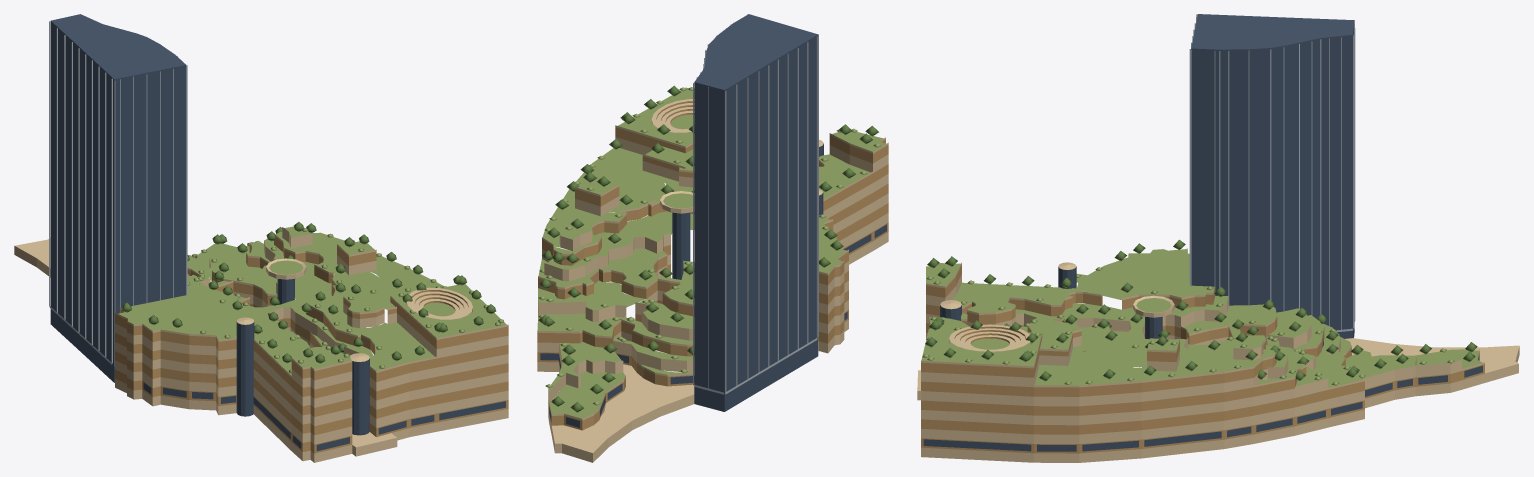
File: osaka-namba-parks.glb
3 renders of one model, left to right at view 1: azimuth 30°, elevation 25°; view 2: azimuth 150°, elevation 25°; view 3: azimuth 270°, elevation 25°, orthographic. The views are drawn at different scales.
Parts seen in each view (by area): view 1: Namba Parks; view 2: Namba Parks; view 3: Namba Parks.
Part boxes in pixels (x1=…): Namba Parks: x1=14, y1=14, x2=508, y2=462; Namba Parks: x1=537, y1=14, x2=888, y2=462; Namba Parks: x1=917, y1=14, x2=1519, y2=462.
Size of the model in its own units: 142 by 149 by 260.
